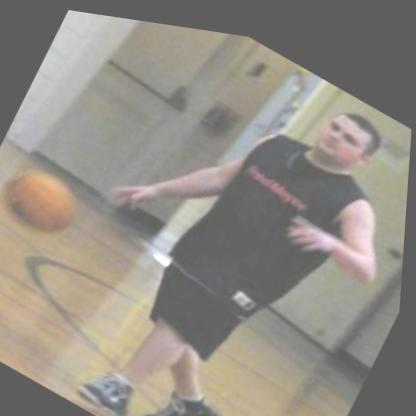basketball: (0, 155, 86, 245)
